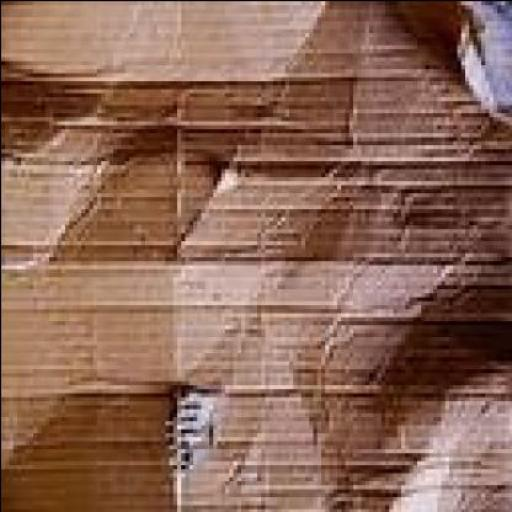cardboard: (1, 2, 510, 511)
